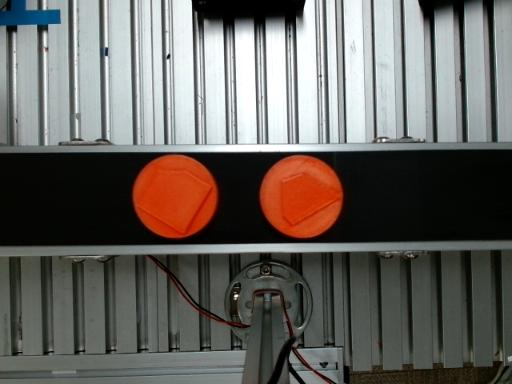Not_Square: (136, 168, 213, 235), (281, 172, 344, 227)
Orange_Waper: (132, 155, 218, 238), (259, 155, 343, 238)
